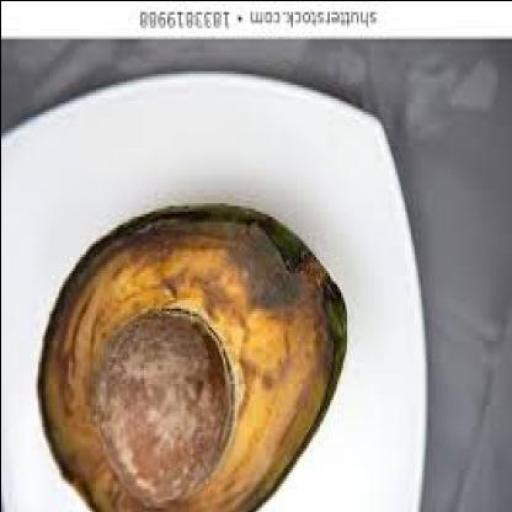biodegradable: (39, 204, 351, 511), (92, 310, 233, 511)
